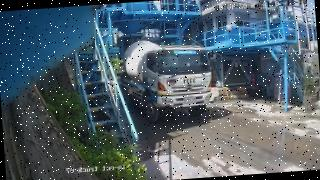cement_mixer_truck: (117, 40, 211, 122)
